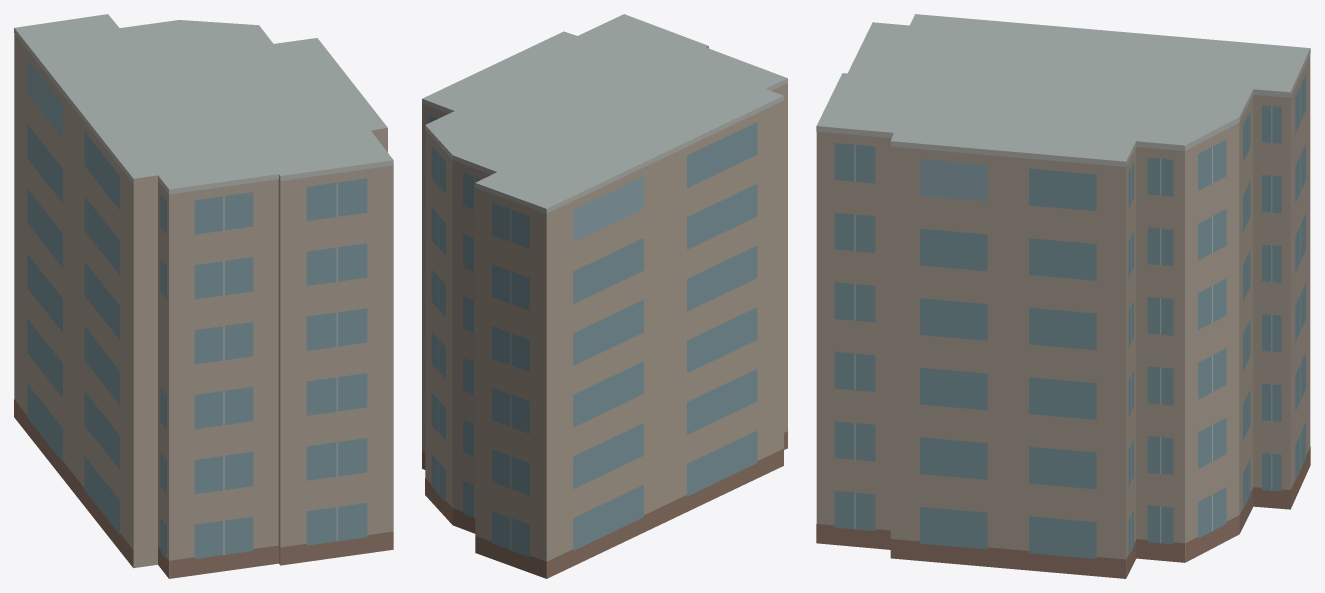
The model's file is survey-upis-32659268.glb.
3 renders of one model, left to right at view 1: azimuth 30°, elevation 25°; view 2: azimuth 150°, elevation 25°; view 3: azimuth 270°, elevation 25°, orthographic. The views are drawn at different scales.
Visible parts, largest first — view 1: survey-upis-32659268.tmp; view 2: survey-upis-32659268.tmp; view 3: survey-upis-32659268.tmp.
Part boxes in pixels (x1=…): survey-upis-32659268.tmp: x1=14, y1=14, x2=393, y2=578; survey-upis-32659268.tmp: x1=422, y1=14, x2=787, y2=578; survey-upis-32659268.tmp: x1=816, y1=14, x2=1310, y2=578.
Size of the model in its own units: 14.13 by 18.6 by 19.97.
